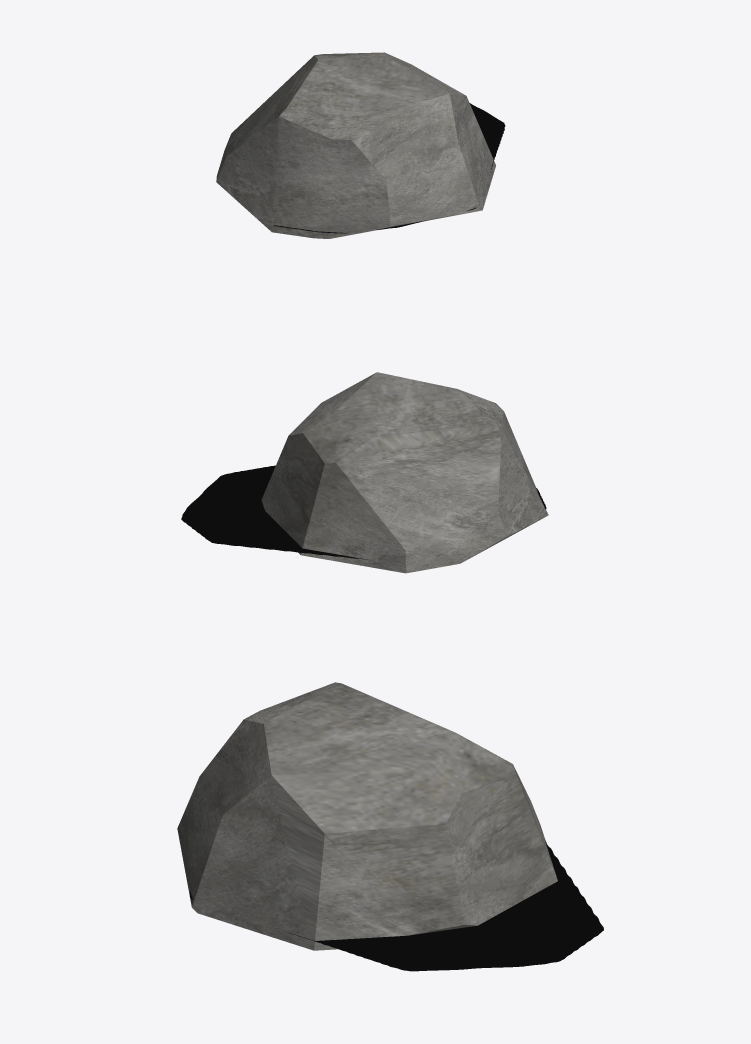
Rendered from SM_Env_Rock1.fbx.
3 renders of one model, top to bottom at view 1: azimuth 30°, elevation 25°; view 2: azimuth 150°, elevation 25°; view 3: azimuth 270°, elevation 25°, orthographic. The views are drawn at different scales.
Parts seen in each view (by area): view 1: SM_Env_Rock1; view 2: SM_Env_Rock1; view 3: SM_Env_Rock1.
Part boxes in pixels (x1,y1,x2,y2): SM_Env_Rock1: [216, 52, 505, 238]; SM_Env_Rock1: [181, 372, 548, 573]; SM_Env_Rock1: [177, 682, 603, 971].
Size of the model in its own units: 185 by 37.83 by 185.
